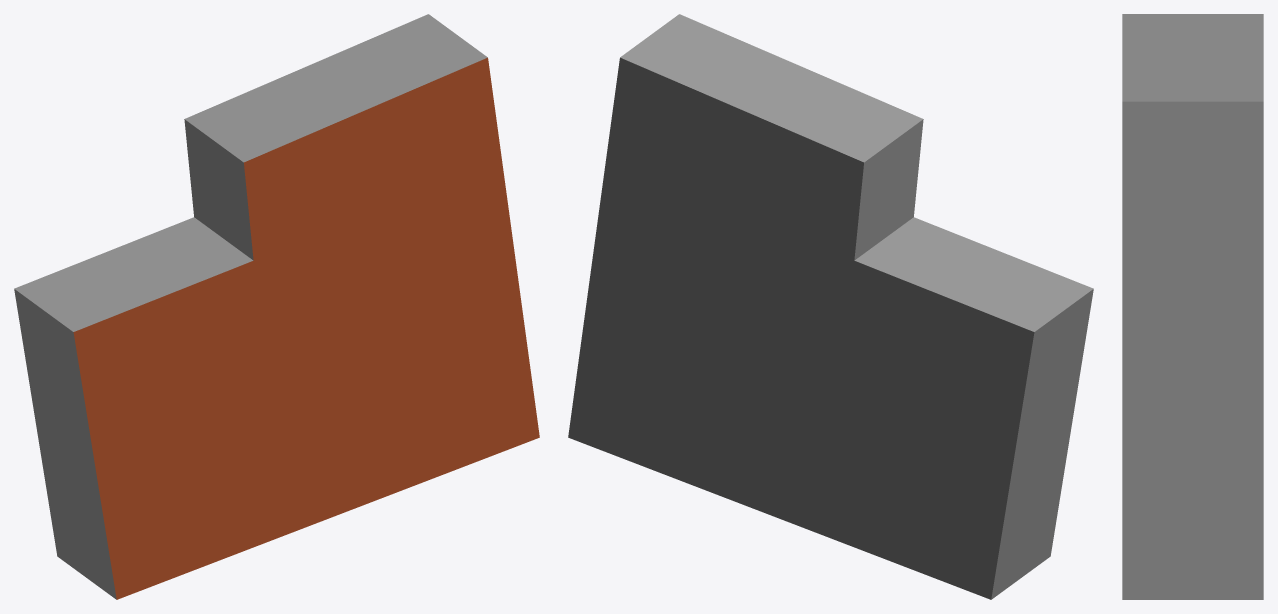
The model's file is construction_6348_assumed_A_Casa_h6m.obj.
The picture shows the model from 3 angles, left to right: view 1: azimuth 30°, elevation 25°; view 2: azimuth 150°, elevation 25°; view 3: azimuth 270°, elevation 25°; orthographic projection. The views are drawn at different scales.
Visible parts, largest first — view 1: construction_6348_assumed_A_Casa; view 2: construction_6348_assumed_A_Casa; view 3: construction_6348_assumed_A_Casa.
Boxes of the visible parts, <box> form: construction_6348_assumed_A_Casa: <box>14,14,539,599</box>; construction_6348_assumed_A_Casa: <box>568,14,1093,599</box>; construction_6348_assumed_A_Casa: <box>1122,14,1263,599</box>.
Bounding box in the file's own units: 27.18 × 25.17 × 6.
